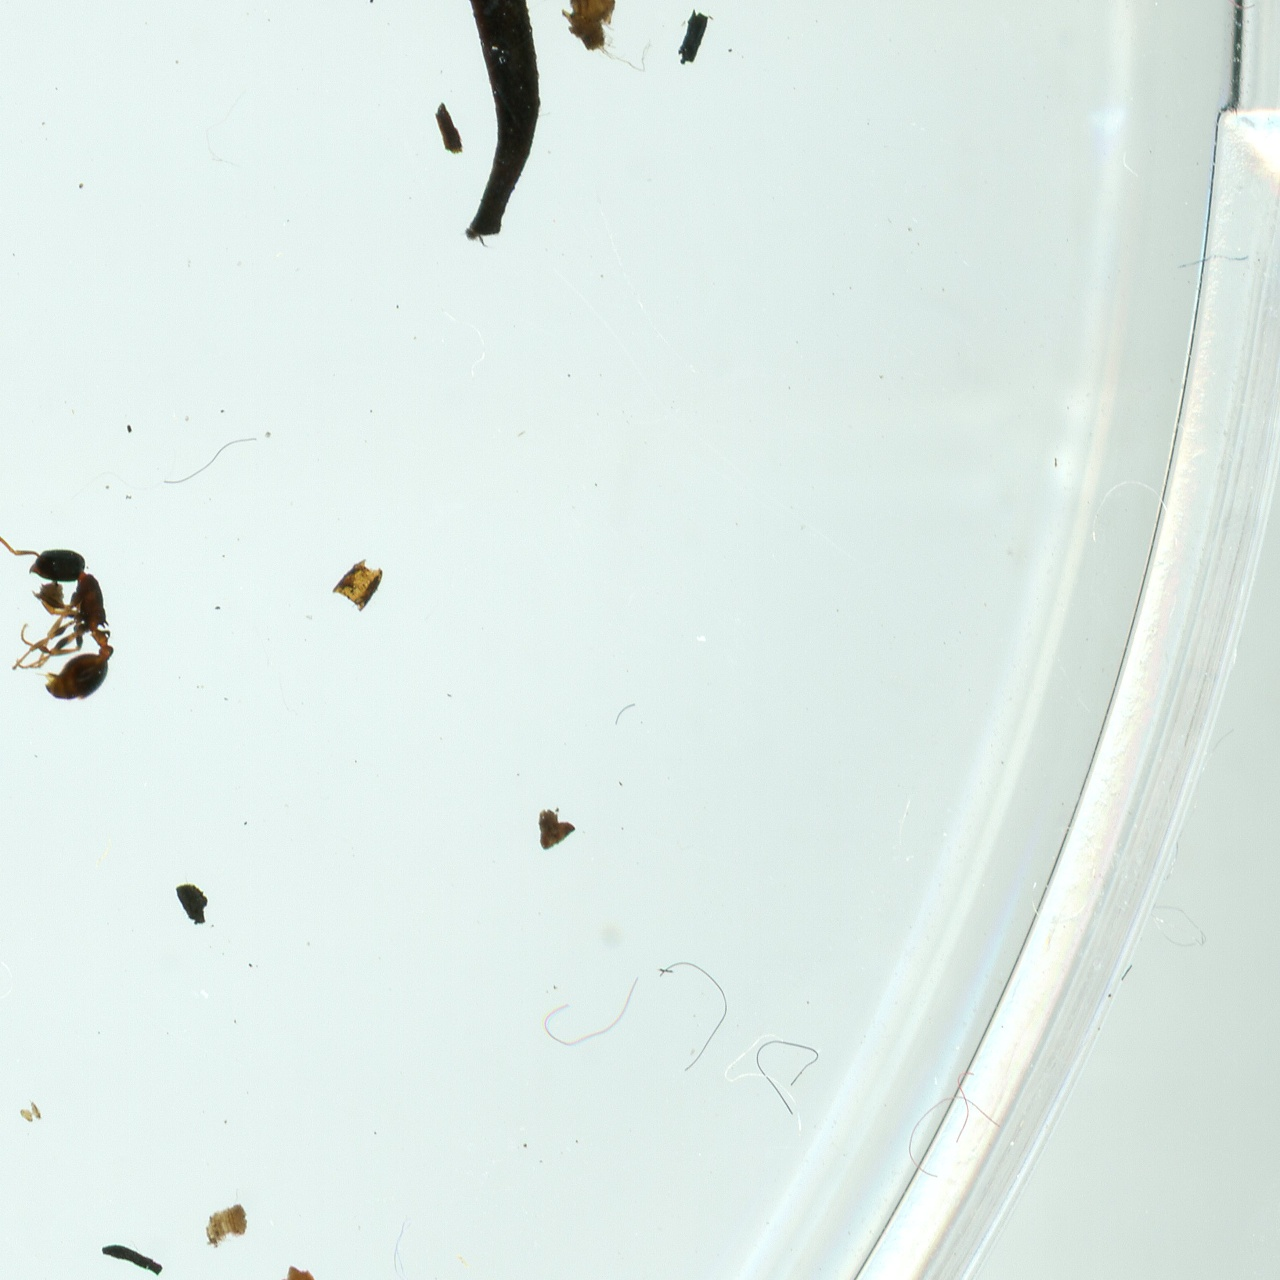arthropod: (0, 520, 123, 709)
